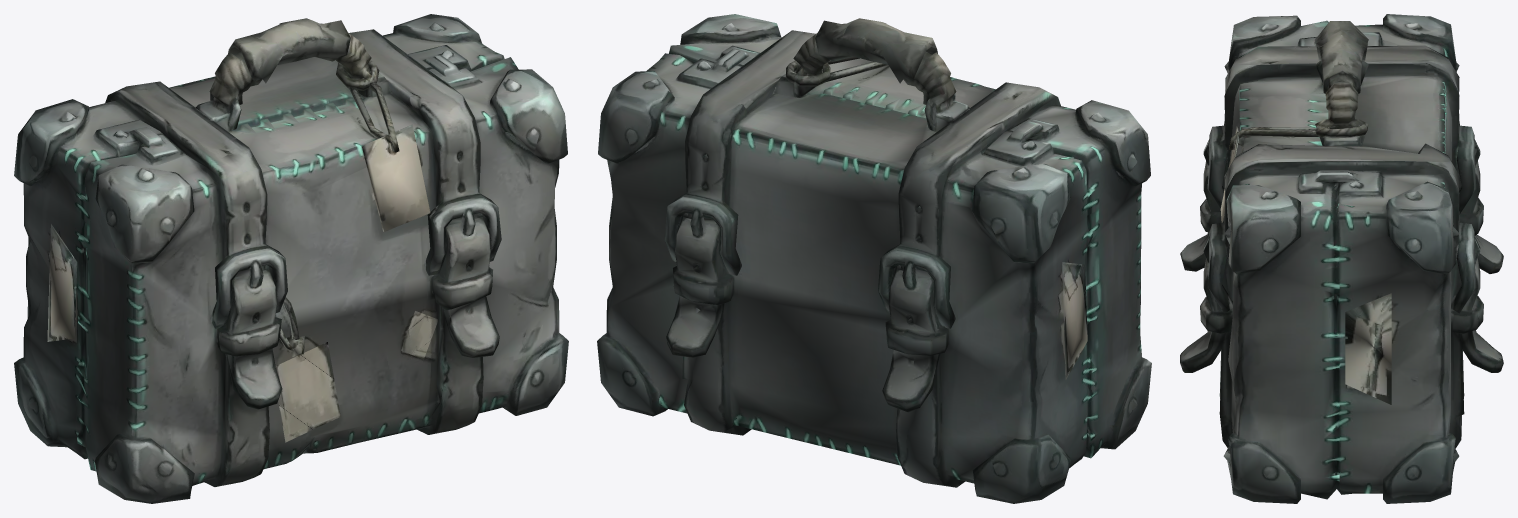
The model's file is tll_ch6_suitcase.glb.
The picture shows the model from 3 angles, left to right: view 1: azimuth 30°, elevation 25°; view 2: azimuth 150°, elevation 25°; view 3: azimuth 270°, elevation 25°; orthographic projection. The views are drawn at different scales.
Visible parts, largest first — view 1: tripo_node_eeda9b6c-f402-483f-b471-1aad450234a2; view 2: tripo_node_eeda9b6c-f402-483f-b471-1aad450234a2; view 3: tripo_node_eeda9b6c-f402-483f-b471-1aad450234a2.
Boxes of the visible parts, x1,y1,x2,y2 form: tripo_node_eeda9b6c-f402-483f-b471-1aad450234a2: (14,14,568,503); tripo_node_eeda9b6c-f402-483f-b471-1aad450234a2: (597,14,1151,503); tripo_node_eeda9b6c-f402-483f-b471-1aad450234a2: (1180,14,1503,503).
Bounding box in the file's own units: 0.5794 × 0.5 × 0.3889.
1 material, 1 textured.
